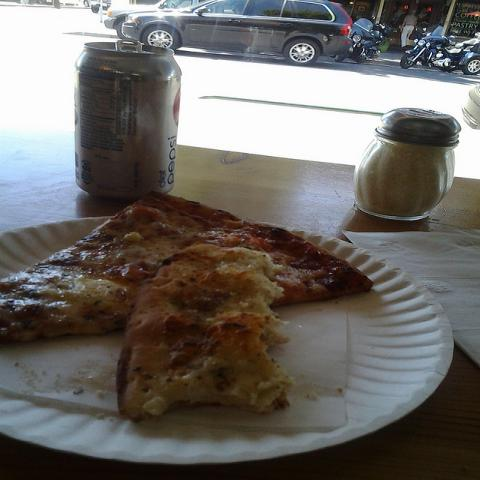car: (117, 2, 352, 65), (104, 0, 201, 30), (82, 0, 112, 14)
motorcycle: (399, 25, 479, 75), (335, 17, 397, 65)
